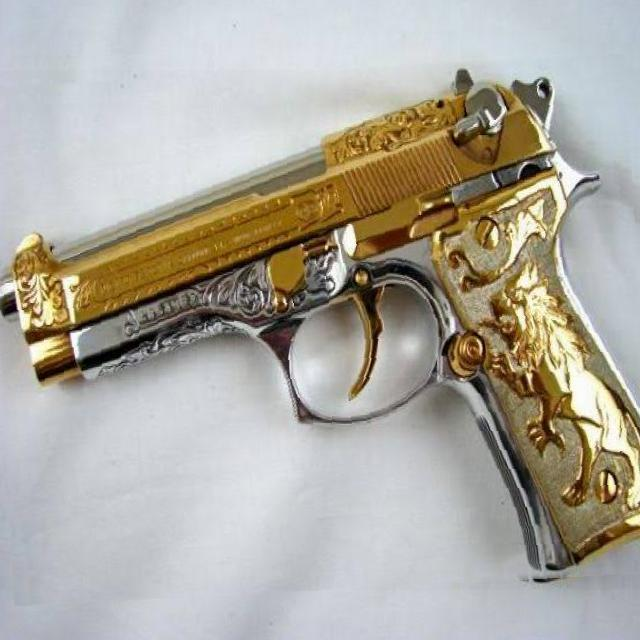handgun: (0, 62, 640, 598)
